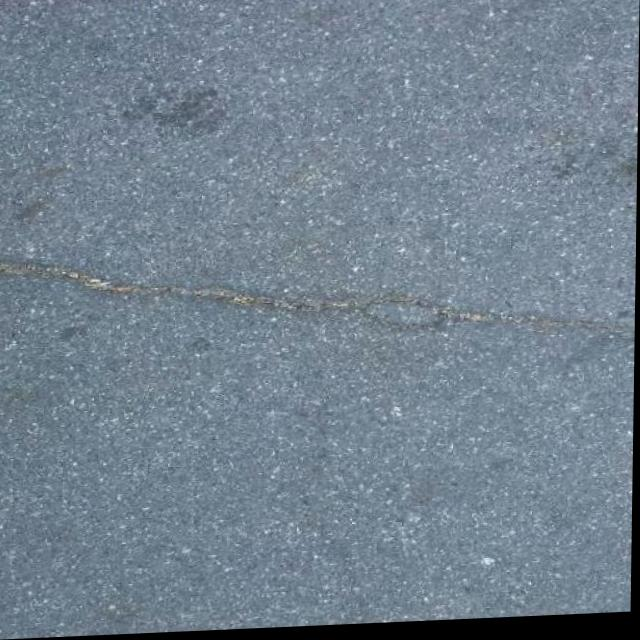Crack: (0, 231, 637, 367)
